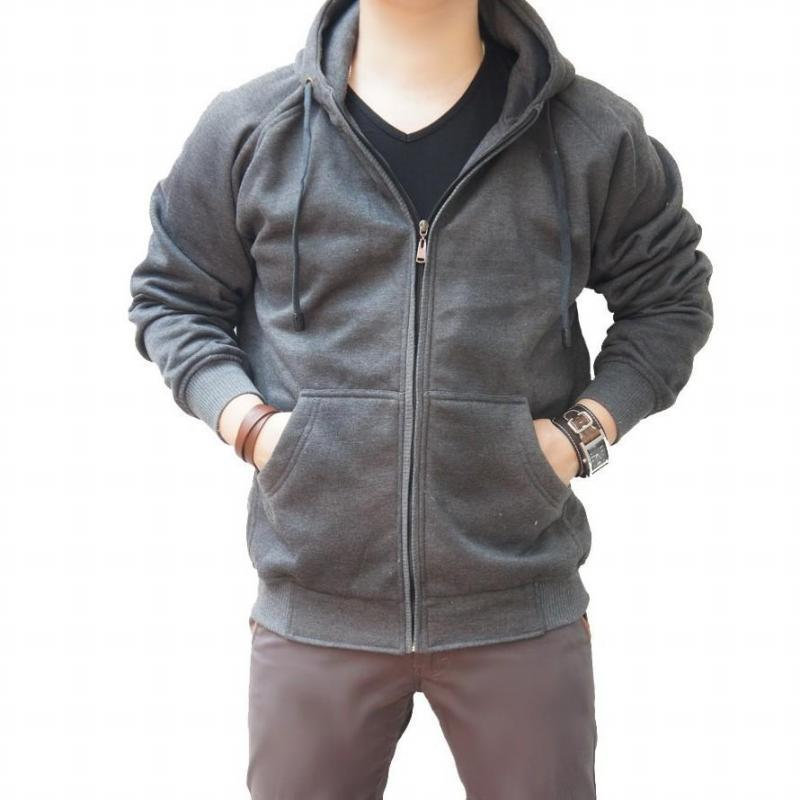short sleeve shirt: (334, 44, 521, 227)
sweater: (126, 0, 718, 654)
trousers: (246, 620, 599, 800)
